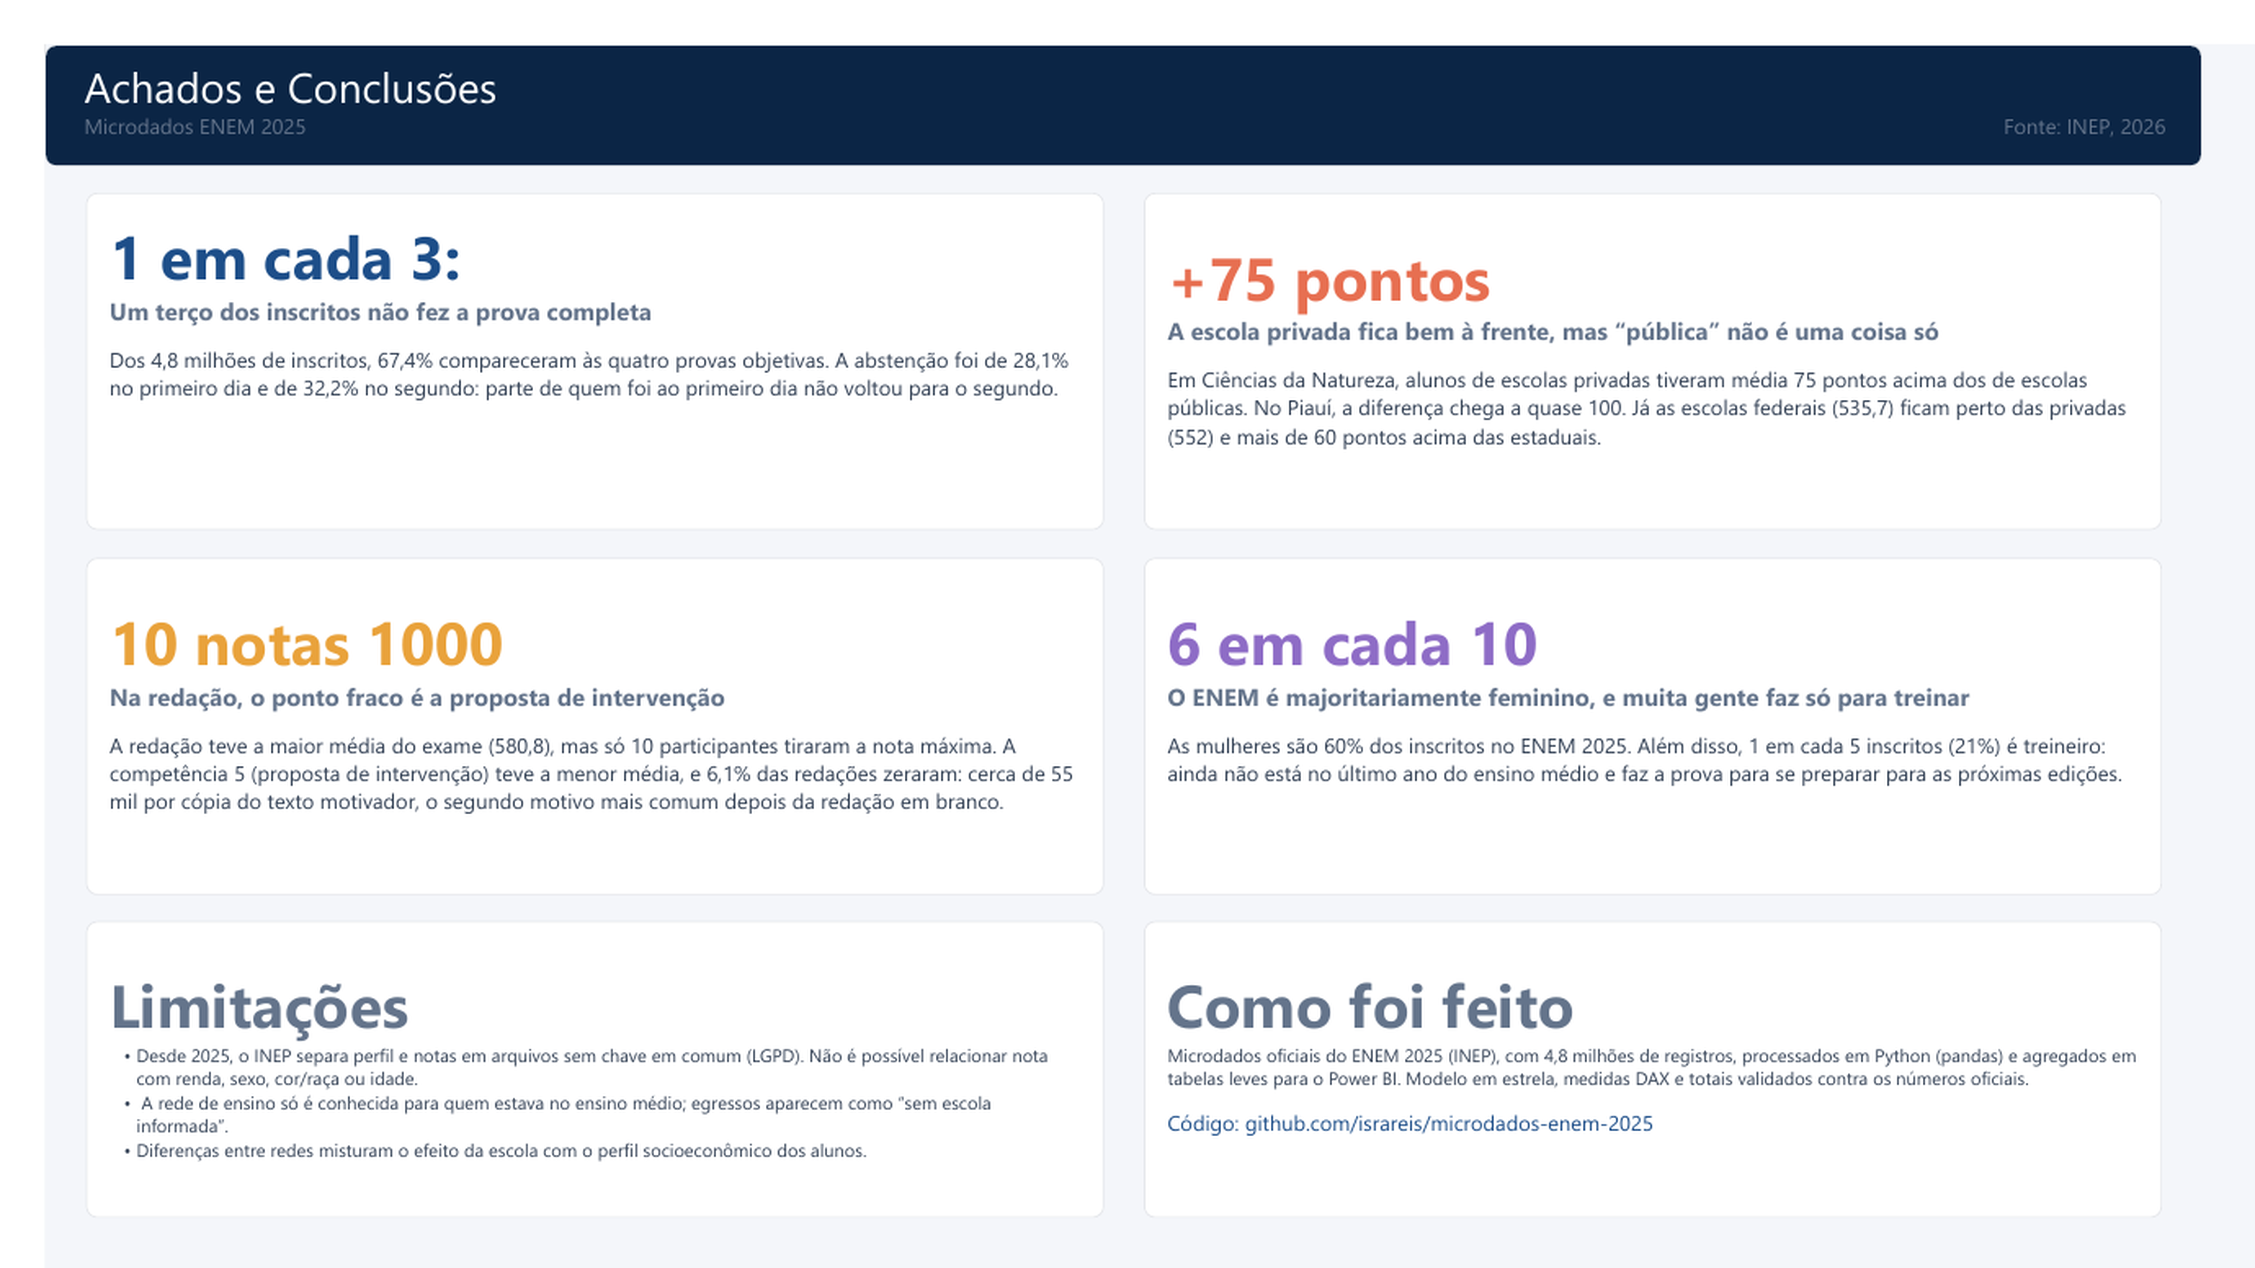

The dashboard page shown, as its layout file describes it:
{"tool":"powerbi","page":{"name":"Conclusões","canvas":[1920,1080],"ordinal":4},"visuals":[{"type":"textbox","box":[36,132,906,300],"z":0},{"type":"textbox","box":[978,132,906,300],"z":1},{"type":"textbox","box":[36,780,906,264],"z":2},{"type":"textbox","box":[978,780,906,264],"z":3},{"type":"textbox","box":[36,456,906,300],"z":4},{"type":"textbox","box":[978,456,906,300],"z":5},{"type":"shape","box":[0,0,1920,108],"z":6},{"type":"textbox","box":[35.5,11.8,1855.7,82.9],"z":7}]}

Visuals, with their boxes in screenshot pixels (x1, y1, x2, y2), scaled from the page's 1920x1080 canvas onto the 2255x1268 screenshot:
textbox: [x1=42, y1=155, x2=1106, y2=507]
textbox: [x1=1149, y1=155, x2=2213, y2=507]
textbox: [x1=42, y1=916, x2=1106, y2=1226]
textbox: [x1=1149, y1=916, x2=2213, y2=1226]
textbox: [x1=42, y1=535, x2=1106, y2=888]
textbox: [x1=1149, y1=535, x2=2213, y2=888]
shape: [x1=0, y1=0, x2=2254, y2=127]
textbox: [x1=42, y1=14, x2=2221, y2=111]
